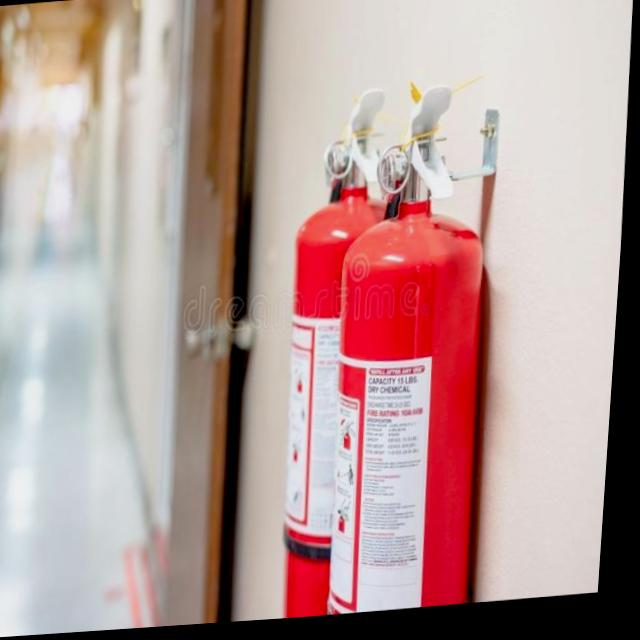FireExtinguisher: (319, 79, 514, 620), (270, 86, 420, 623)
